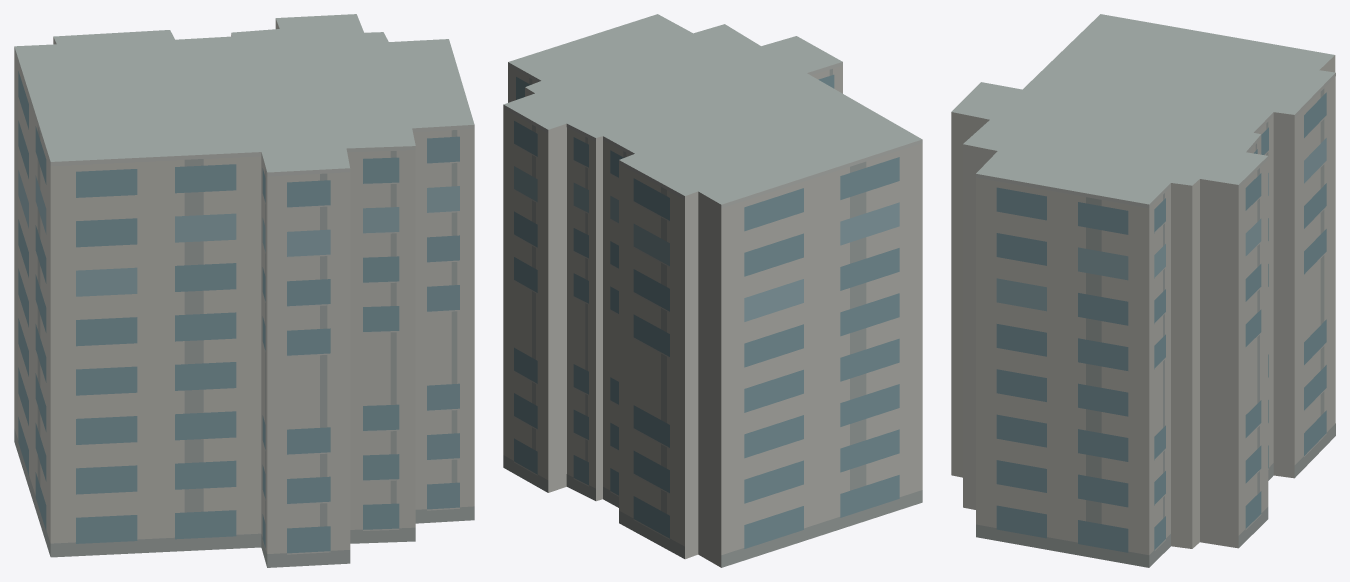
The model's file is survey-upis-32668290.glb.
3 views of the same model, side by side, from view 1: azimuth 30°, elevation 25°; view 2: azimuth 150°, elevation 25°; view 3: azimuth 270°, elevation 25° (orthographic). The views are drawn at different scales.
Parts seen in each view (by area): view 1: survey-upis-32668290.tmp; view 2: survey-upis-32668290.tmp; view 3: survey-upis-32668290.tmp.
Part boxes in pixels (x1,y1,x2,y2): survey-upis-32668290.tmp: [14, 14, 474, 567]; survey-upis-32668290.tmp: [503, 14, 922, 567]; survey-upis-32668290.tmp: [951, 14, 1335, 567].
Size of the model in its own units: 26.21 by 23.3 by 22.35.
